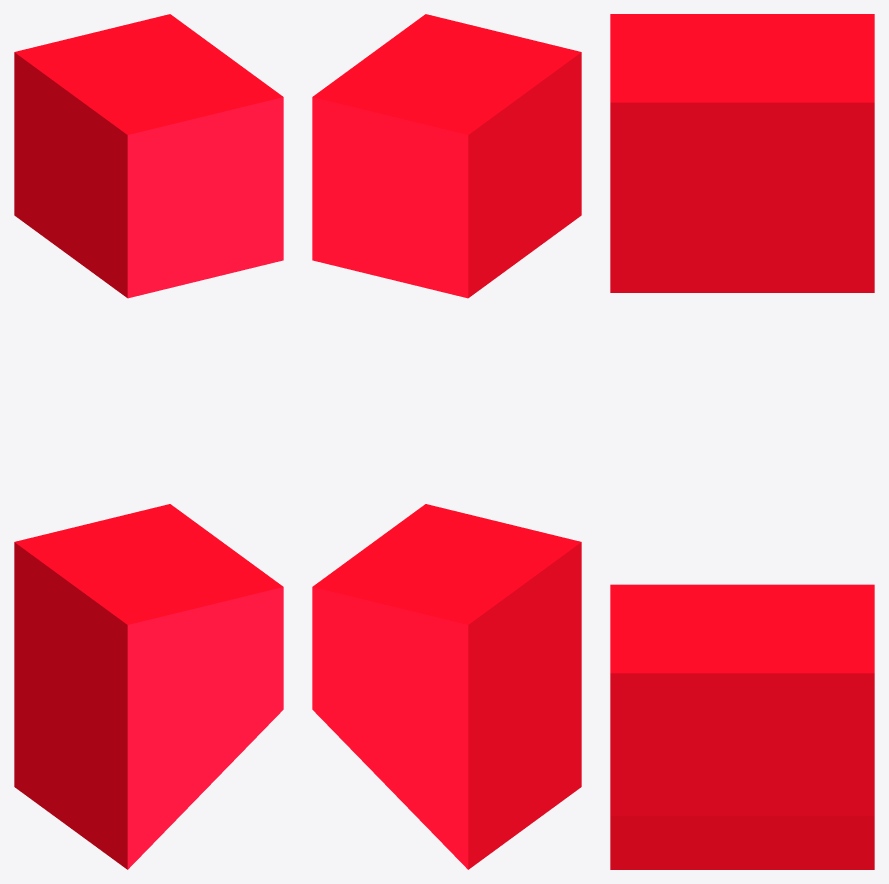
Rendered from 4f03fb42-63e0-407c-8bac-f07dd05e1ebe.glb.
3 views of the same model, side by side, from view 1: azimuth 30°, elevation 25°; view 2: azimuth 150°, elevation 25°; view 3: azimuth 270°, elevation 25° (orthographic). The views are drawn at different scales.
Visible parts, largest first — view 1: ;_DeltaBlock_Red; view 2: ;_DeltaBlock_Red; view 3: ;_DeltaBlock_Red.
Boxes of the visible parts, box(x1,y1,x2,y2) form: ;_DeltaBlock_Red: box(14, 14, 283, 869); ;_DeltaBlock_Red: box(312, 14, 581, 869); ;_DeltaBlock_Red: box(610, 14, 874, 869).
Size of what is drawn, in the model's own units: 0.0357 by 0.1607 by 0.045.
2 materials, 2 textured.
